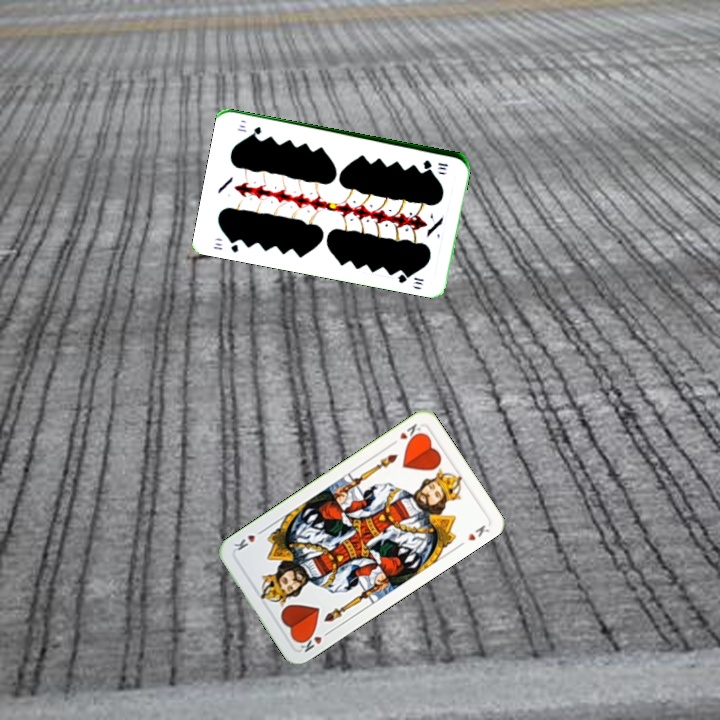G10: (209, 235, 241, 255), (419, 156, 450, 172)
HK: (294, 626, 334, 655), (387, 419, 426, 448)
